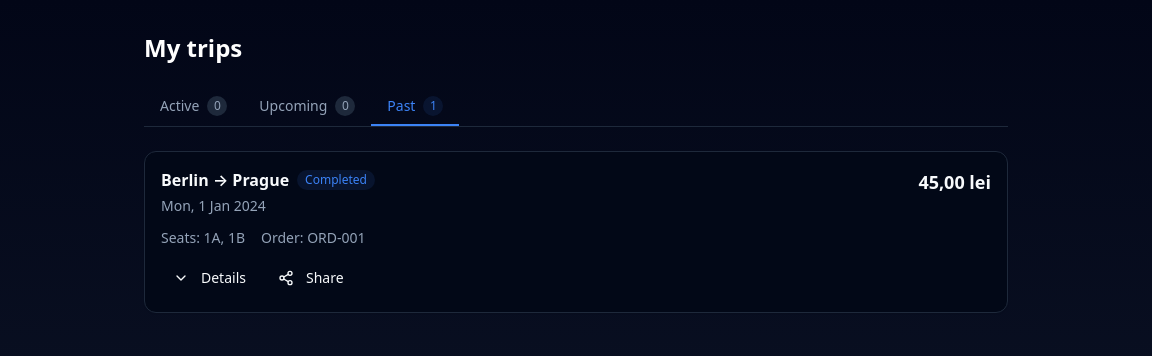
Test case: MyTripsPage › tabs › shows empty message for active tab when no active bookings exist
The image size is (1152, 356).
Expected: the 1st text "0" is shown, [207,96,227,116]
Click the tab "Active 0": (194, 107) [144,88,243,126]
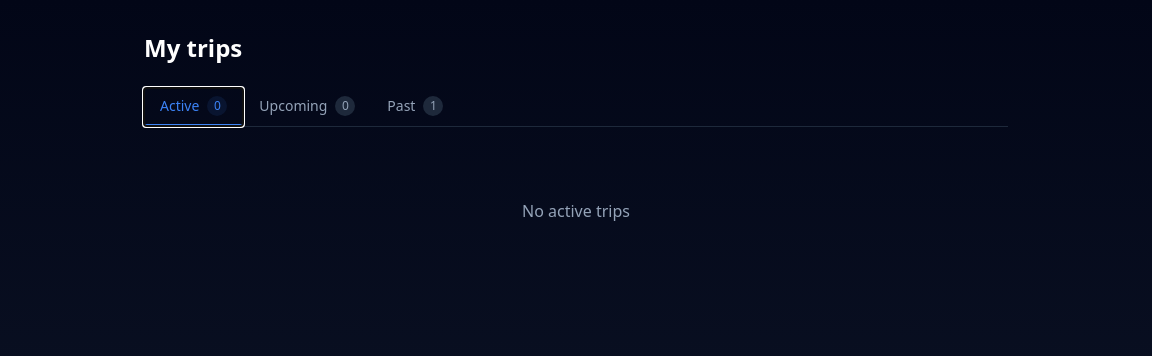
Expected: the text "No active trips" is shown, [522,199,630,223]
